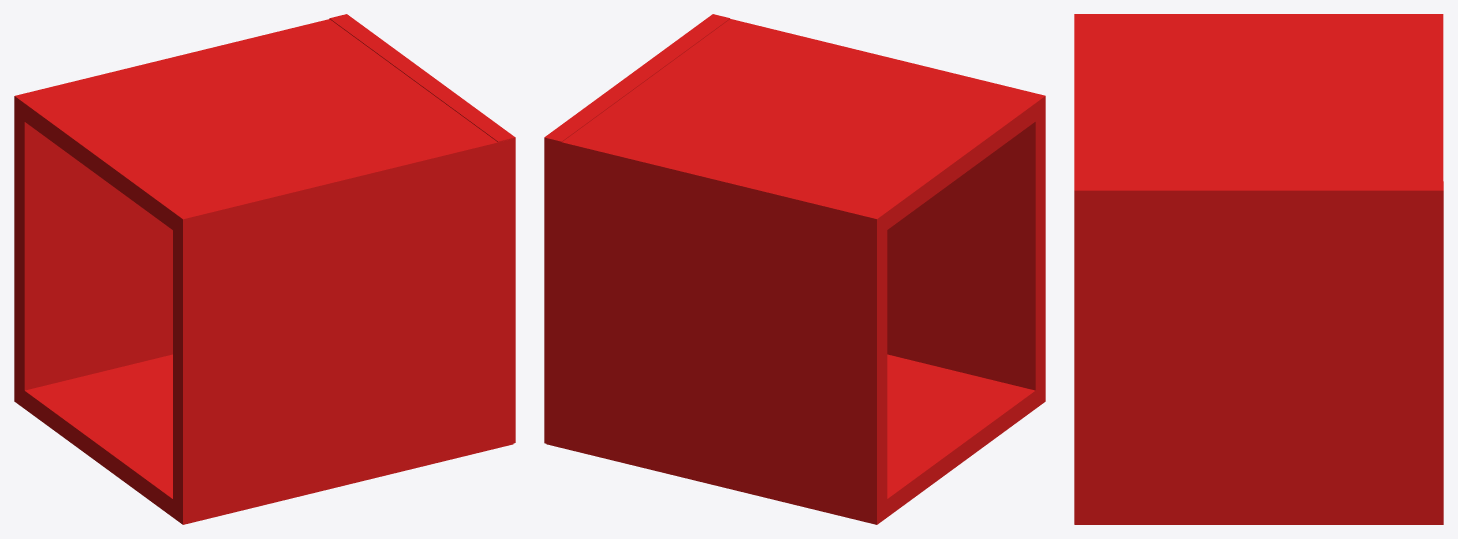
The model's file is Room.fbx.
The picture shows the model from 3 angles, left to right: view 1: azimuth 30°, elevation 25°; view 2: azimuth 150°, elevation 25°; view 3: azimuth 270°, elevation 25°; orthographic projection. The views are drawn at different scales.
Visible parts, largest first — view 1: Room; view 2: Room; view 3: Room.
Part boxes in pixels (left/top/right/bottom): Room: left=14, top=14, right=515, bottom=524; Room: left=544, top=14, right=1045, bottom=524; Room: left=1074, top=14, right=1443, bottom=524.
Size of the model in its own units: 114 by 100 by 100.
